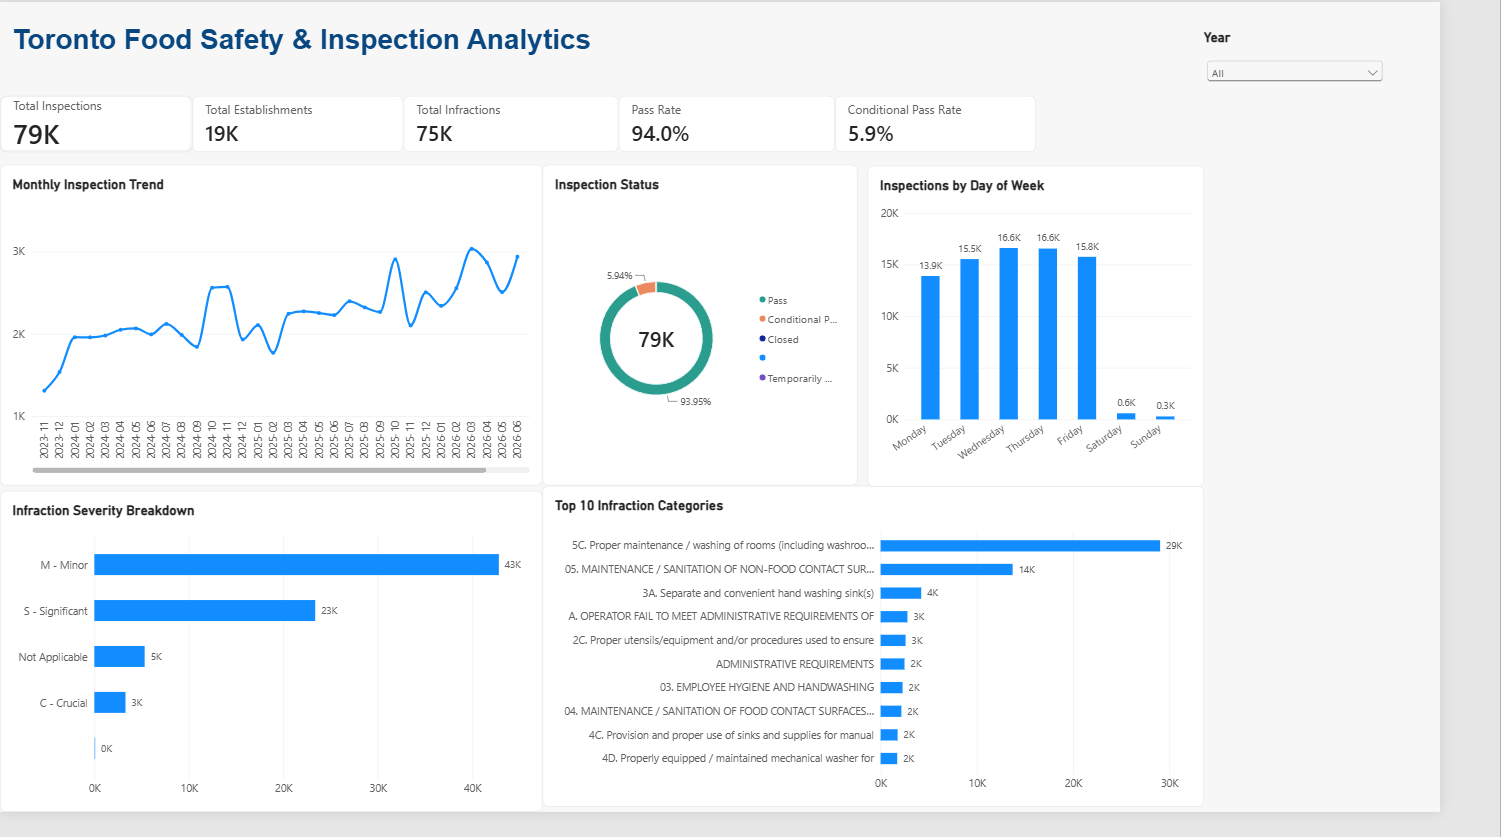

The dashboard page shown, as its layout file describes it:
{"tool":"powerbi","page":{"name":"Overview","canvas":[1920,1080],"ordinal":0},"visuals":[{"type":"cardVisual","fields":{"Data":["FactInspections.Total Inspections"]},"box":[0,125,256.7,75],"z":0},{"type":"cardVisual","fields":{"Data":["FactInspections.Total Establishments"]},"box":[256.7,125,281.7,75],"z":1000},{"type":"cardVisual","fields":{"Data":["FactInspections.Total Infractions"]},"box":[538.3,125,286.7,75],"z":2000},{"type":"cardVisual","fields":{"Data":["FactInspections.Pass Rate"]},"box":[825,125,288.3,75],"z":3000},{"type":"cardVisual","fields":{"Data":["FactInspections.Conditional Pass Rate"]},"box":[1113.3,125,268.3,75],"z":4000},{"type":"lineChart","title":"Monthly Inspection Trend","fields":{"Category":["DimDate.YearMonth"],"Y":["FactInspections.Total Inspections"]},"box":[0,216.7,723.3,428.3],"z":5000},{"type":"donutChart","title":"Inspection Status","fields":{"Category":["FactInspections.inspectionStatus"],"Y":["FactInspections.Total Inspections"]},"box":[723.3,216.7,420,428.3],"z":6000},{"type":"clusteredBarChart","title":"Infraction Severity Breakdown","fields":{"Category":["FactInspections.severity"],"Y":["FactInspections.Infractions by Severity"]},"box":[0,651.7,723.3,428.3],"z":7000},{"type":"clusteredBarChart","title":"Top 10 Infraction Categories","fields":{"Category":["FactInspections.InfractionCategory"],"Y":["FactInspections.Total Infractions"]},"box":[723.3,645,881.7,428.3],"z":8000},{"type":"clusteredColumnChart","title":"Inspections by Day of Week","fields":{"Category":["DimDate.DayOfWeek"],"Y":["FactInspections.Total Inspections"]},"box":[1156.7,218.3,449,428],"z":9000},{"type":"slicer","title":"Year","fields":{"Values":["DimDate.Year"]},"box":[1605,36.7,243.3,88.3],"z":10000},{"type":"textbox","box":[16.7,28.3,808.3,68.3],"z":16000}]}

Visuals, with their boxes in screenshot pixels (x1, y1, x2, y2), scaled from the page's 1920x1080 canvas onto the 1501x837 screenshot:
cardVisual - FactInspections.Total Inspections: box=[0, 97, 201, 155]
cardVisual - FactInspections.Total Establishments: box=[201, 97, 421, 155]
cardVisual - FactInspections.Total Infractions: box=[421, 97, 645, 155]
cardVisual - FactInspections.Pass Rate: box=[645, 97, 870, 155]
cardVisual - FactInspections.Conditional Pass Rate: box=[870, 97, 1080, 155]
"Monthly Inspection Trend" lineChart: box=[0, 168, 565, 500]
"Inspection Status" donutChart: box=[565, 168, 894, 500]
"Infraction Severity Breakdown" clusteredBarChart: box=[0, 505, 565, 836]
"Top 10 Infraction Categories" clusteredBarChart: box=[565, 500, 1255, 832]
"Inspections by Day of Week" clusteredColumnChart: box=[904, 169, 1255, 501]
"Year" slicer: box=[1255, 28, 1445, 97]
textbox: box=[13, 22, 645, 75]
